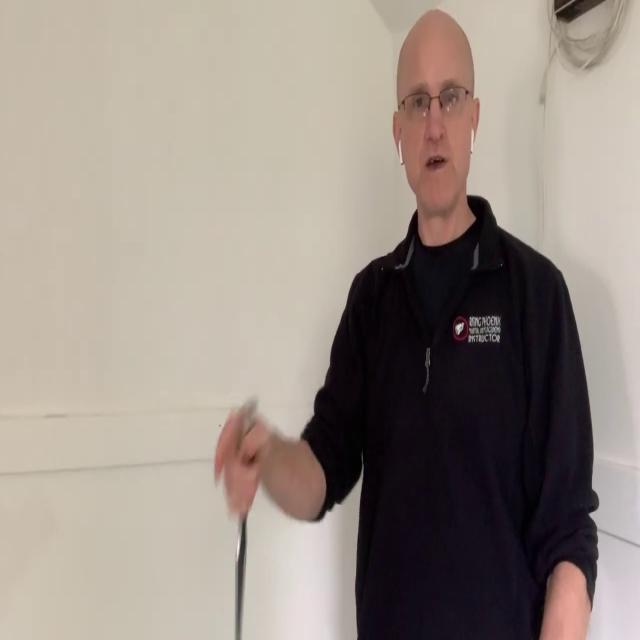Knife_Handle: (214, 394, 269, 640)
